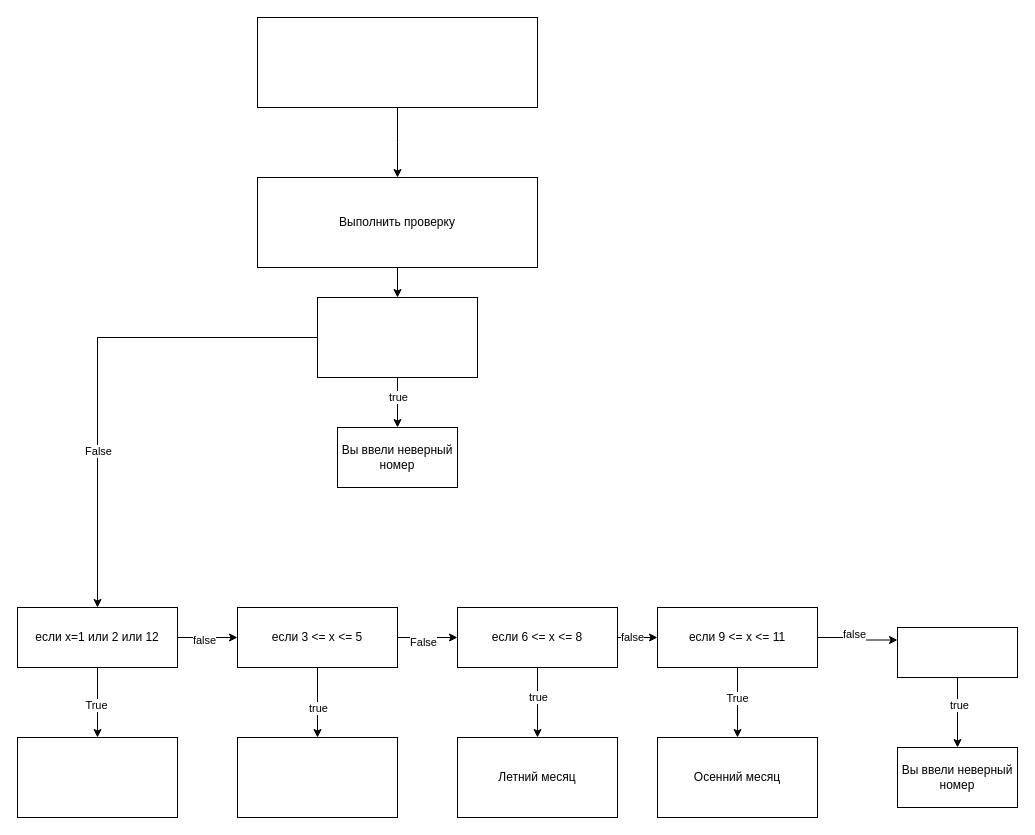
The diagram is 1035 pixels wide and 835 high, and some of its shapes have lost their labels. The centre of each missing label's shape, as x and y in pixels:
Ввести номер месяца: point 397,62
Если 1 > x: point 397,337
если x >= 12: point 957,652
Показать "Весенний месяц": point 317,777
показать "Зимний месяц": point 97,777
